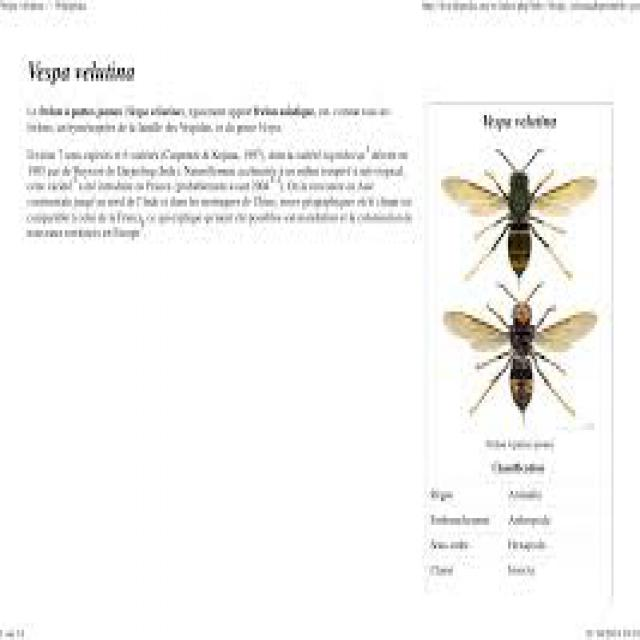Vespa Velutina: (446, 279, 604, 436), (435, 142, 601, 288)
